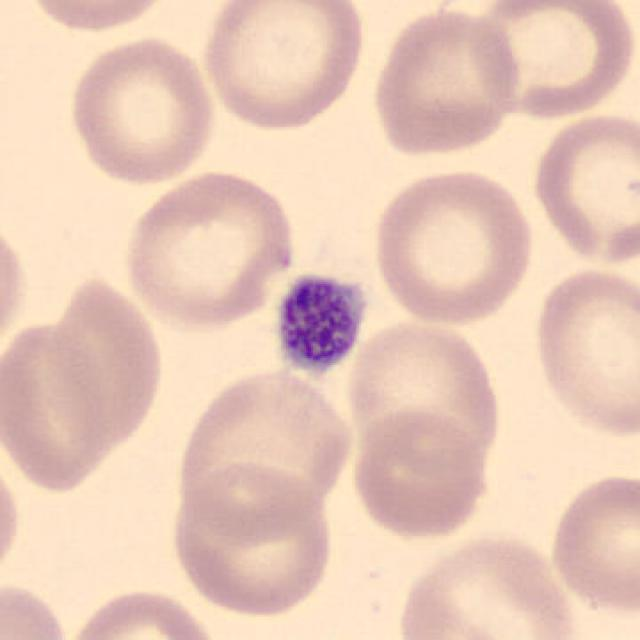Platelets: (268, 268, 370, 381)
RBC: (171, 360, 359, 530), (118, 166, 302, 333), (368, 164, 539, 328), (341, 314, 507, 479), (167, 466, 340, 620), (35, 270, 169, 458), (366, 3, 524, 160), (64, 32, 219, 188), (198, 0, 372, 134), (0, 310, 119, 496), (345, 404, 498, 543), (464, 0, 638, 122), (393, 529, 583, 640), (526, 258, 638, 442), (526, 108, 638, 266), (546, 467, 640, 617), (176, 456, 329, 546), (62, 583, 222, 640), (18, 0, 178, 37), (0, 212, 30, 370), (0, 576, 74, 640), (0, 448, 25, 589)
